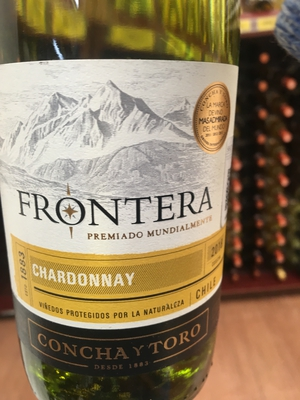frontera chardonnay: (3, 14, 239, 400)
